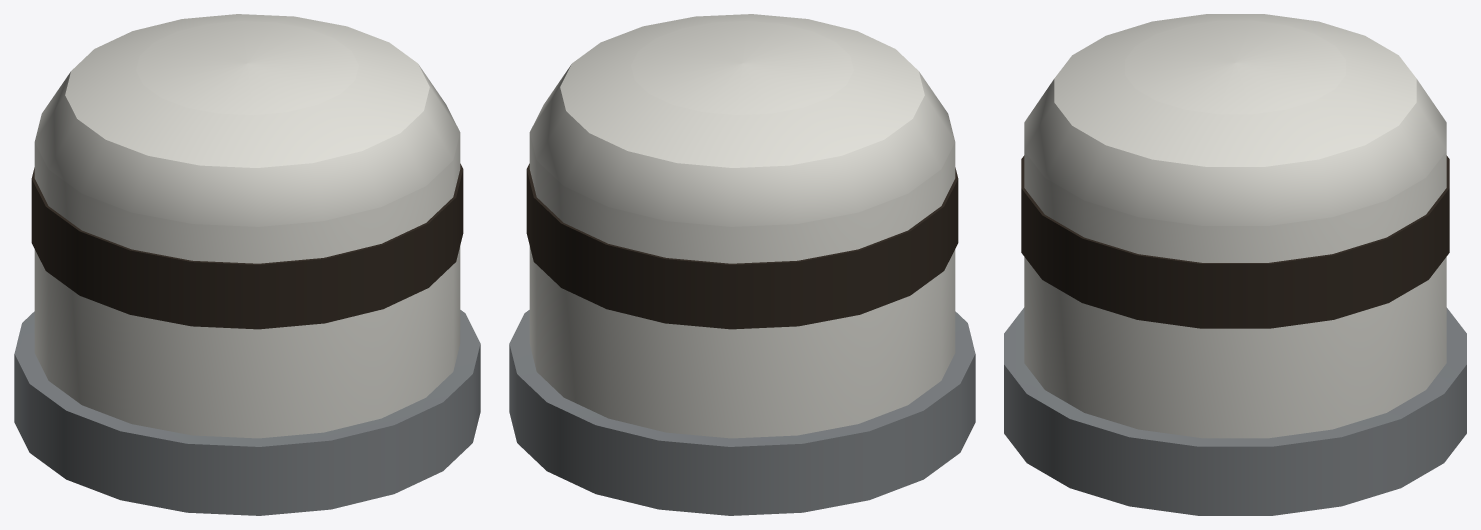
The model's file is photocell.obj.
3 renders of one model, left to right at view 1: azimuth 30°, elevation 25°; view 2: azimuth 150°, elevation 25°; view 3: azimuth 270°, elevation 25°, orthographic.
Visible parts, largest first — view 1: pc_body, pc_receptacle, pc_window; view 2: pc_body, pc_receptacle, pc_window; view 3: pc_body, pc_receptacle, pc_window.
Part boxes in pixels (x1,y1,x2,y2): pc_body: (34, 14, 460, 438); pc_receptacle: (14, 310, 480, 515); pc_window: (31, 163, 463, 329); pc_body: (529, 14, 955, 438); pc_receptacle: (509, 310, 975, 515); pc_window: (526, 163, 958, 329); pc_body: (1024, 14, 1446, 438); pc_receptacle: (1004, 307, 1466, 515); pc_window: (1021, 155, 1449, 328).
Size of the model in its own units: 0.0909 by 0.077 by 0.0909.
